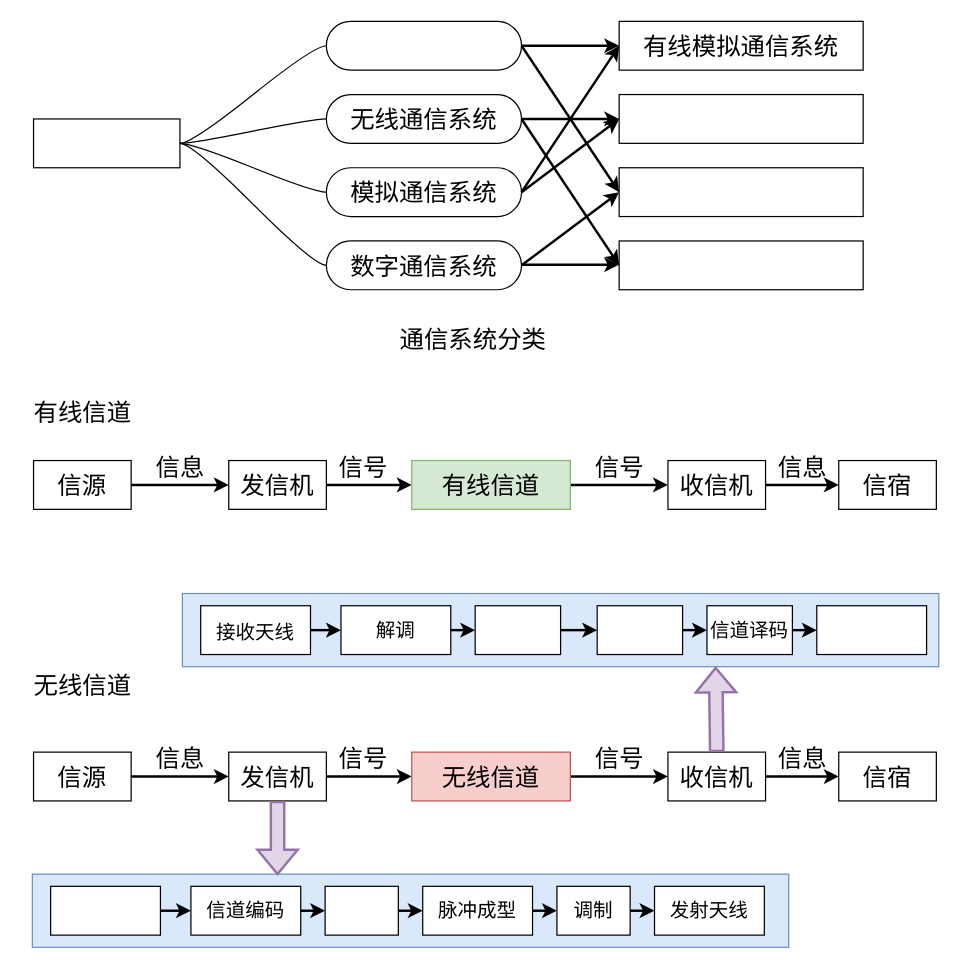
This 960x969 diagram has some shape labels left out. Each missing label, with the box of its shape:
交织: (324, 885, 398, 935)
信源编码: (49, 885, 160, 935)
信源译码: (816, 605, 927, 655)
去交织: (596, 605, 683, 655)
无线数字通信系统: (618, 240, 863, 290)
无线模拟通信系统: (618, 93, 863, 143)
有线数字通信系统: (618, 167, 863, 217)
有线通信系统: (325, 20, 522, 70)
通信系统: (32, 118, 180, 168)
采样判决: (474, 605, 561, 655)
